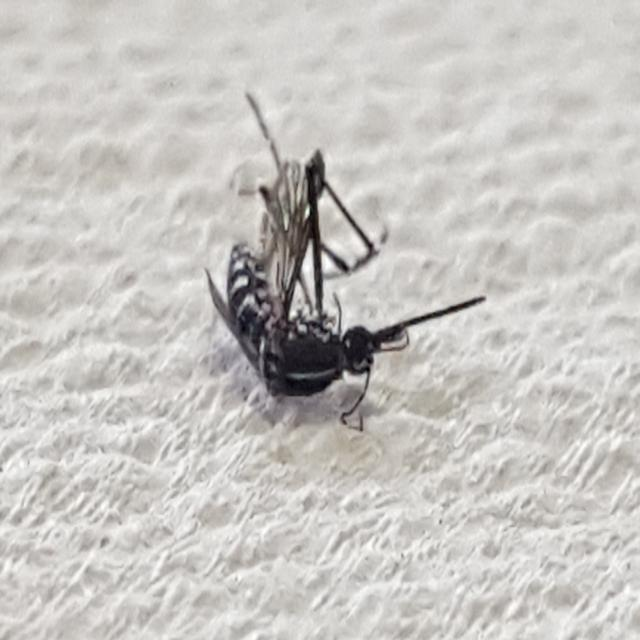albopictus: (180, 64, 484, 427)
